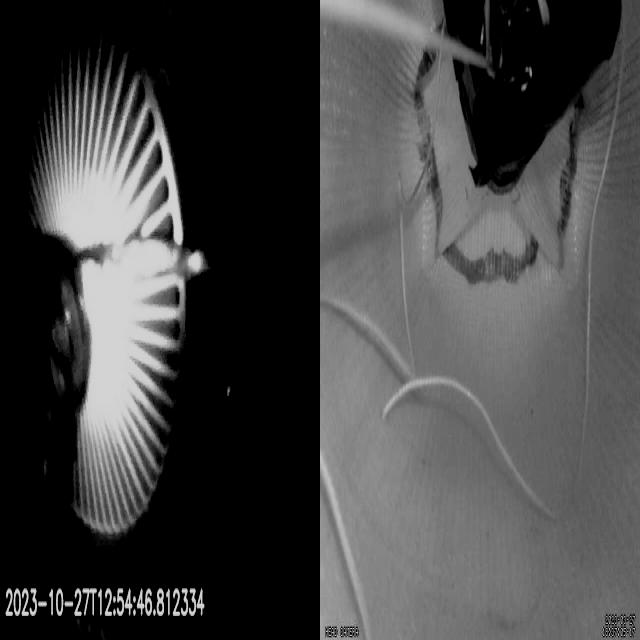red-circle: (414, 21, 583, 286)
